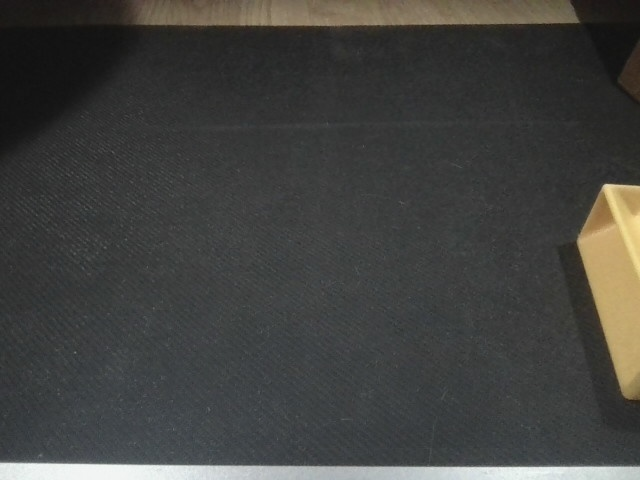YellowSample: (573, 178, 640, 405)
